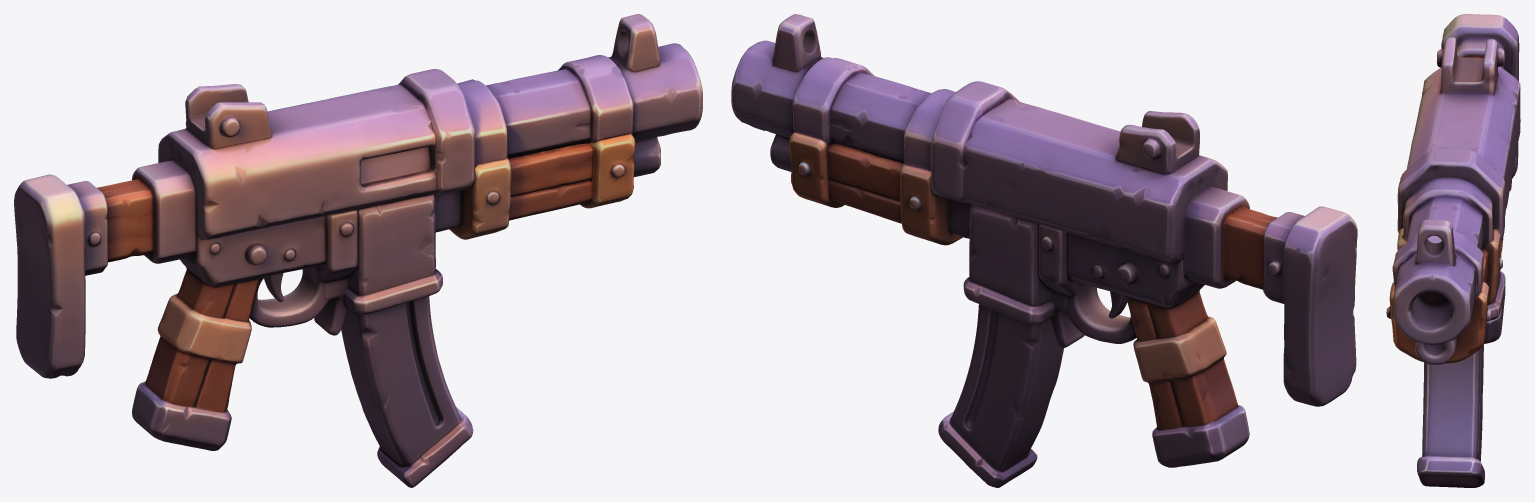
Rendered from SMG_Tripo.glb.
3 renders of one model, left to right at view 1: azimuth 30°, elevation 25°; view 2: azimuth 150°, elevation 25°; view 3: azimuth 270°, elevation 25°, orthographic. The views are drawn at different scales.
Parts seen in each view (by area): view 1: tripo_node_c9f2a081-6f3e-44b2-b7a1-4ad28a15e587; view 2: tripo_node_c9f2a081-6f3e-44b2-b7a1-4ad28a15e587; view 3: tripo_node_c9f2a081-6f3e-44b2-b7a1-4ad28a15e587.
Boxes of the visible parts, x1,y1,x2,y2 form: tripo_node_c9f2a081-6f3e-44b2-b7a1-4ad28a15e587: (14, 14, 702, 487); tripo_node_c9f2a081-6f3e-44b2-b7a1-4ad28a15e587: (731, 14, 1357, 487); tripo_node_c9f2a081-6f3e-44b2-b7a1-4ad28a15e587: (1386, 14, 1520, 487).
Size of the model in its own units: 0.9785 by 0.6169 by 0.2019.
Materials: 1 (1 with a texture image).
